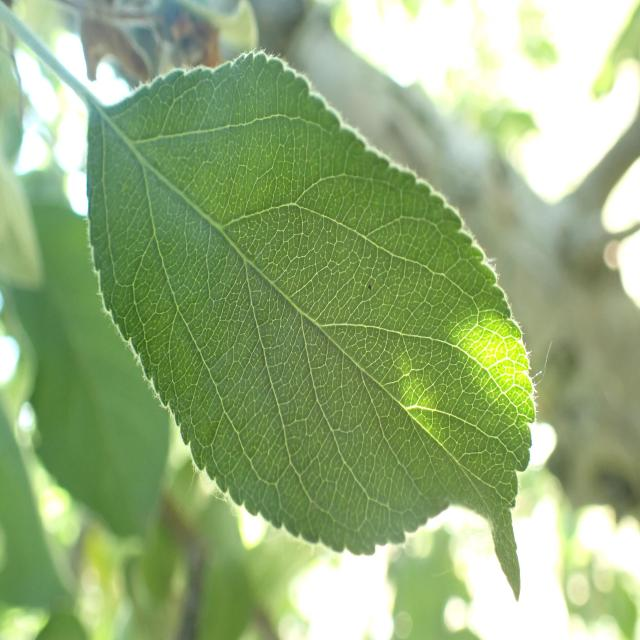healthy: (87, 48, 545, 601)
